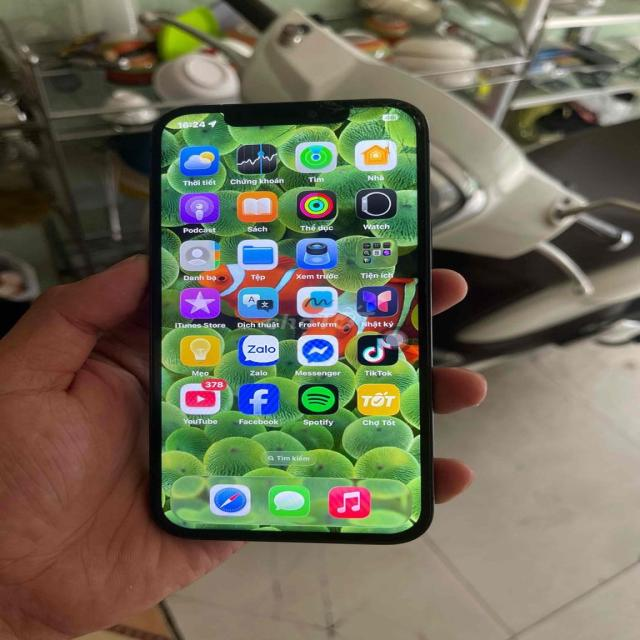gen_11: (148, 102, 439, 545)
